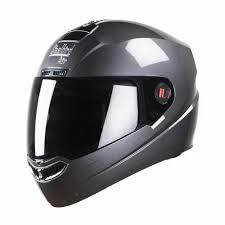helmet: (28, 20, 198, 206)
